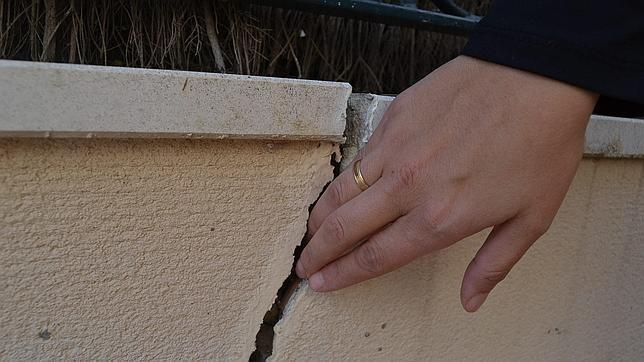damage: (246, 86, 377, 362)
